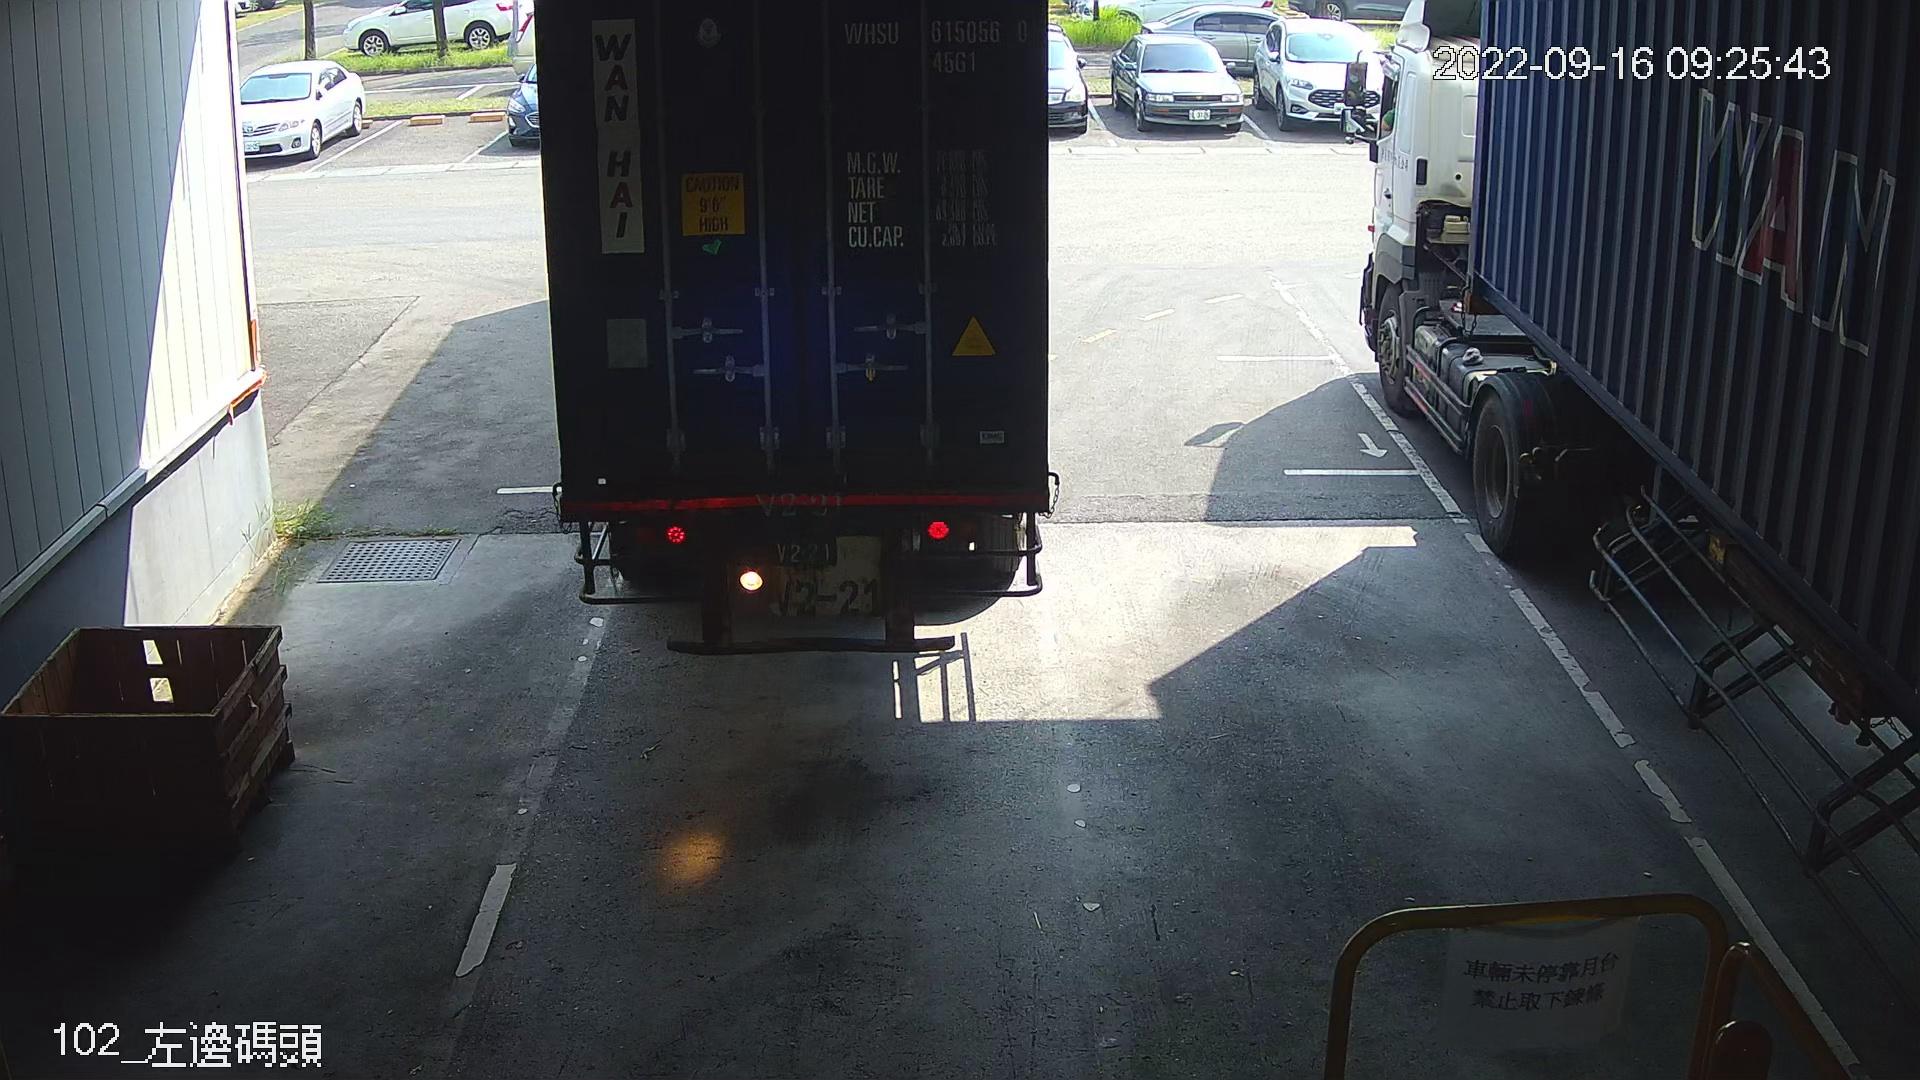container: (835, 11, 1036, 83)
